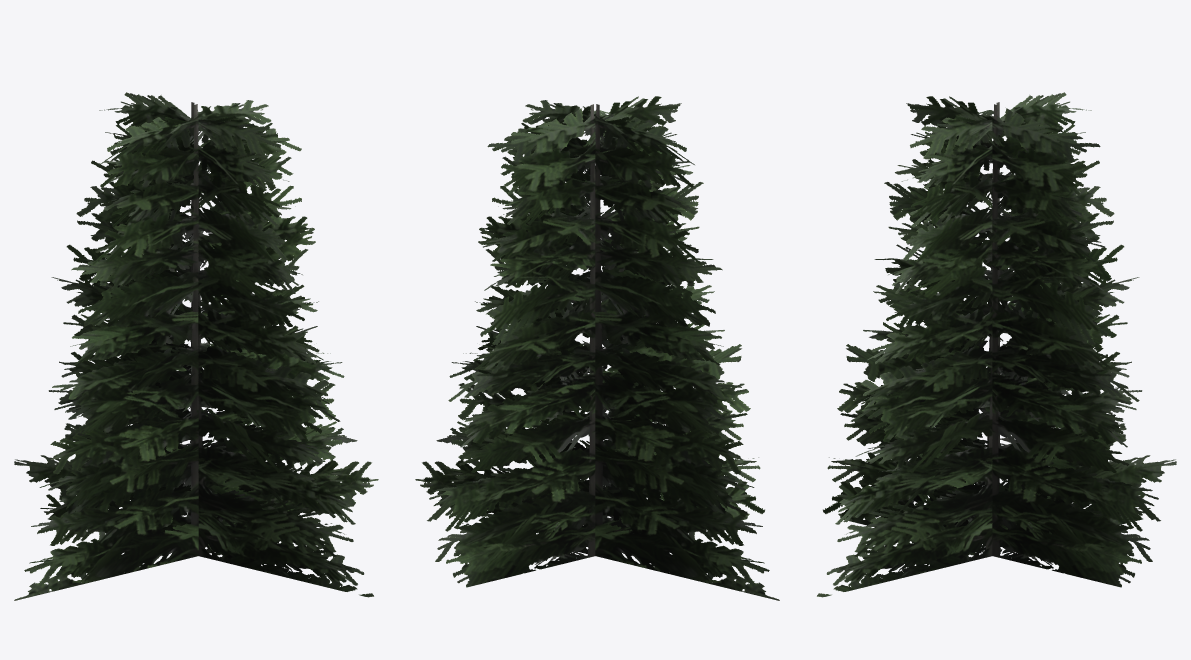
The model's file is jedle_mlada_daleko.glb.
3 views of the same model, side by side, from view 1: azimuth 30°, elevation 25°; view 2: azimuth 150°, elevation 25°; view 3: azimuth 270°, elevation 25° (orthographic).
Visible parts, largest first — view 1: jedle_mlada_daleko; view 2: jedle_mlada_daleko; view 3: jedle_mlada_daleko.
Part boxes in pixels (x1=…): jedle_mlada_daleko: x1=14, y1=92, x2=378, y2=600; jedle_mlada_daleko: x1=415, y1=96, x2=779, y2=600; jedle_mlada_daleko: x1=817, y1=92, x2=1176, y2=597.
Size of the model in its own units: 5.27 by 6.18 by 4.56.
Materials: 3 (3 with a texture image).
